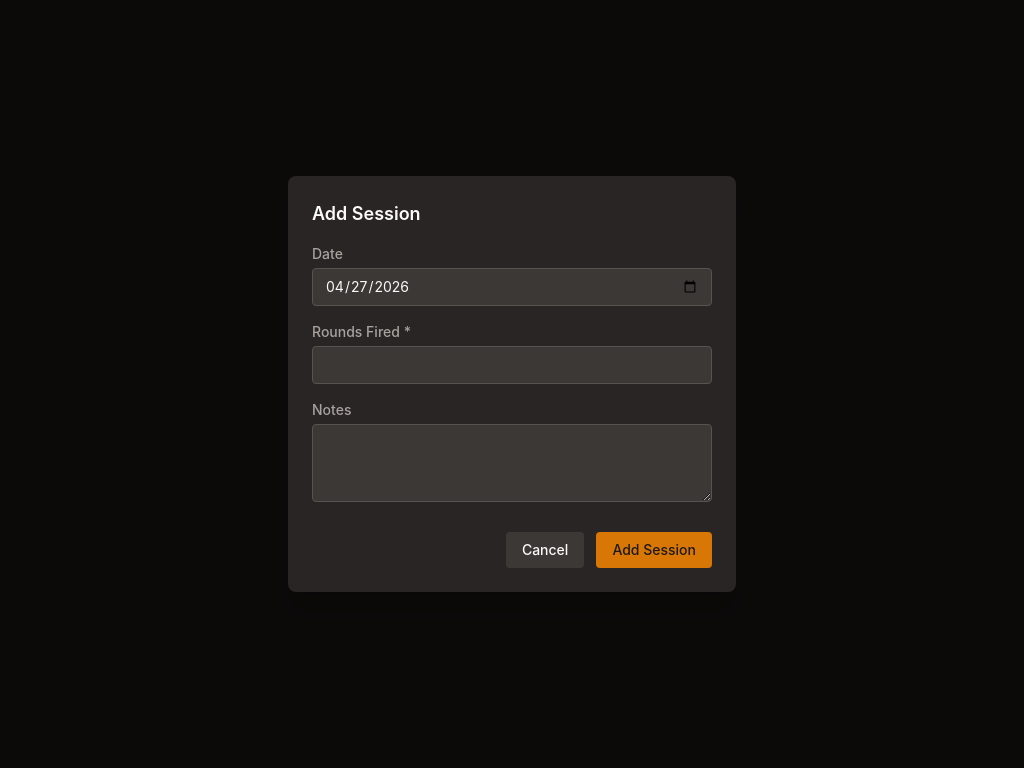
Scenario: RoundCountForm › shows inline error when rounds_fired is 0
This screenshot has width=1024, height=768.
In the number field labelled "Rounds Fired *": (512, 365) [312,346,712,384], type "0"
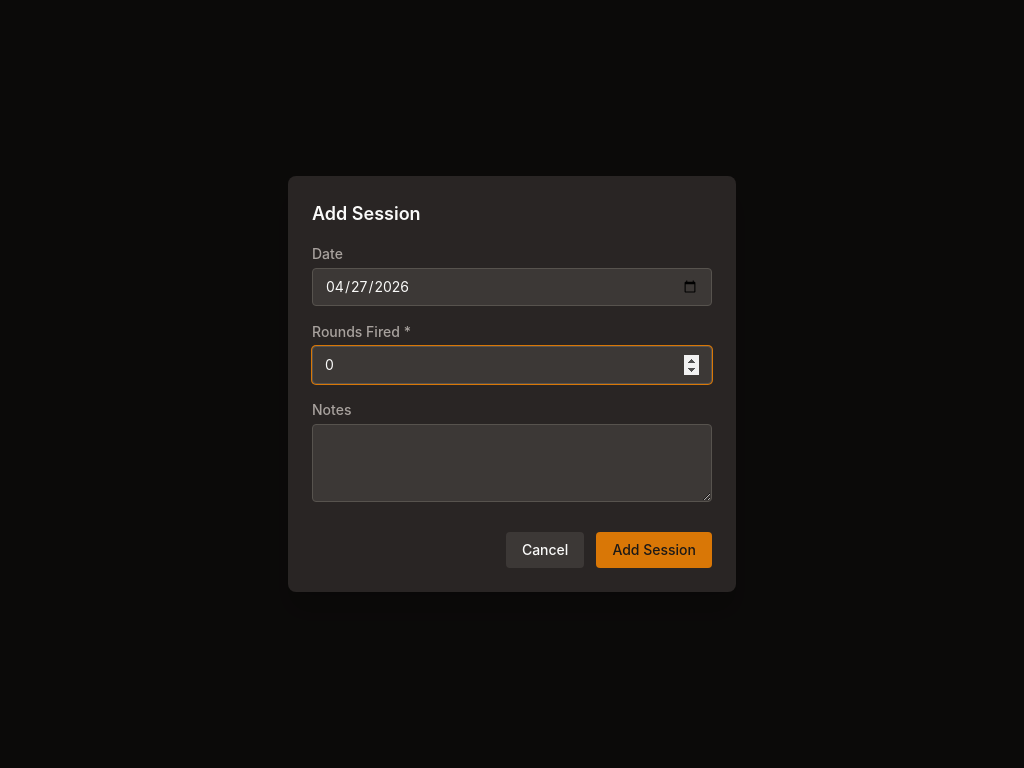
Click the button "Add Session": (654, 550) [596,532,712,568]
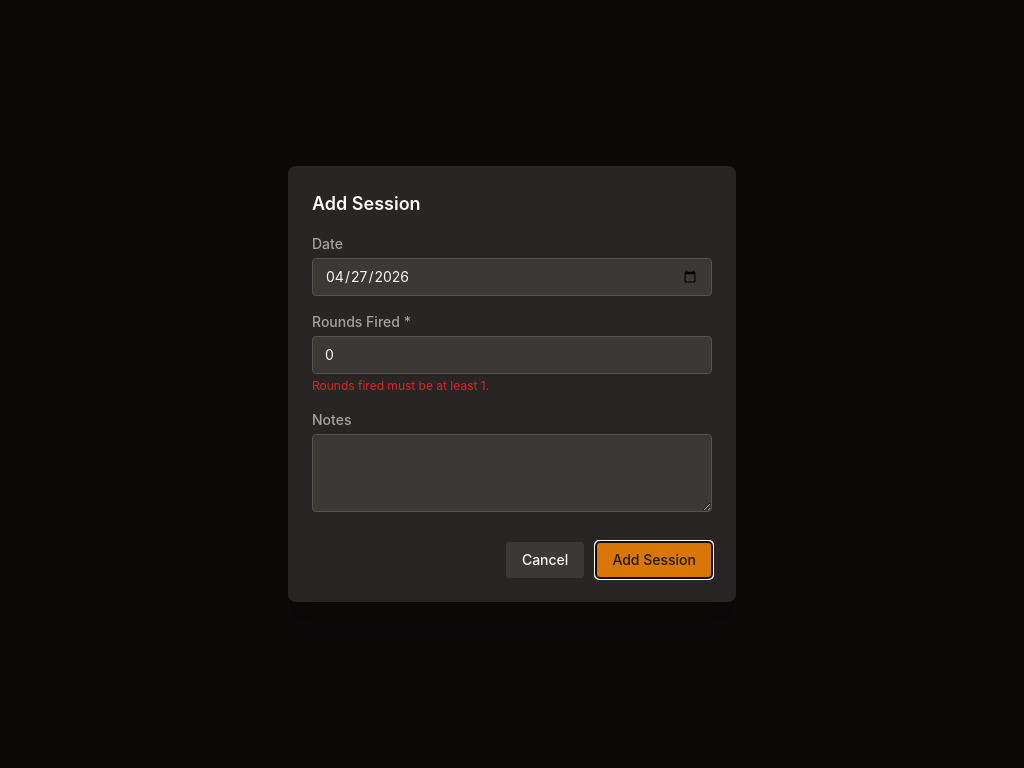
Expected: the text "Rounds fired must be at least 1." is shown, [312,378,489,393]
